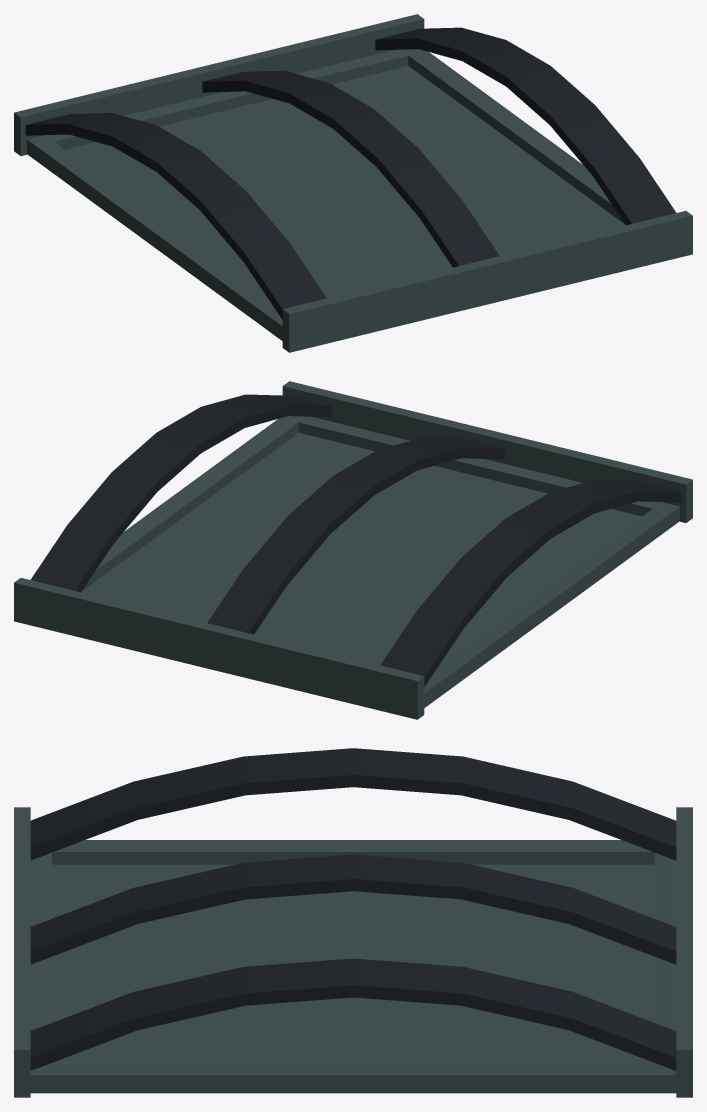
The model's file is SM_sign_stable.fbx.
3 views of the same model, one above another, from view 1: azimuth 30°, elevation 25°; view 2: azimuth 150°, elevation 25°; view 3: azimuth 270°, elevation 25° (orthographic). The views are drawn at different scales.
Visible parts, largest first — view 1: sign_stable; view 2: sign_stable; view 3: sign_stable.
Boxes of the visible parts, box(x1,y1,x2,y2) form: sign_stable: box(14, 14, 692, 352); sign_stable: box(14, 381, 692, 719); sign_stable: box(14, 748, 692, 1097).
Bounding box in the file's own units: 68 × 14.33 × 80.39.
